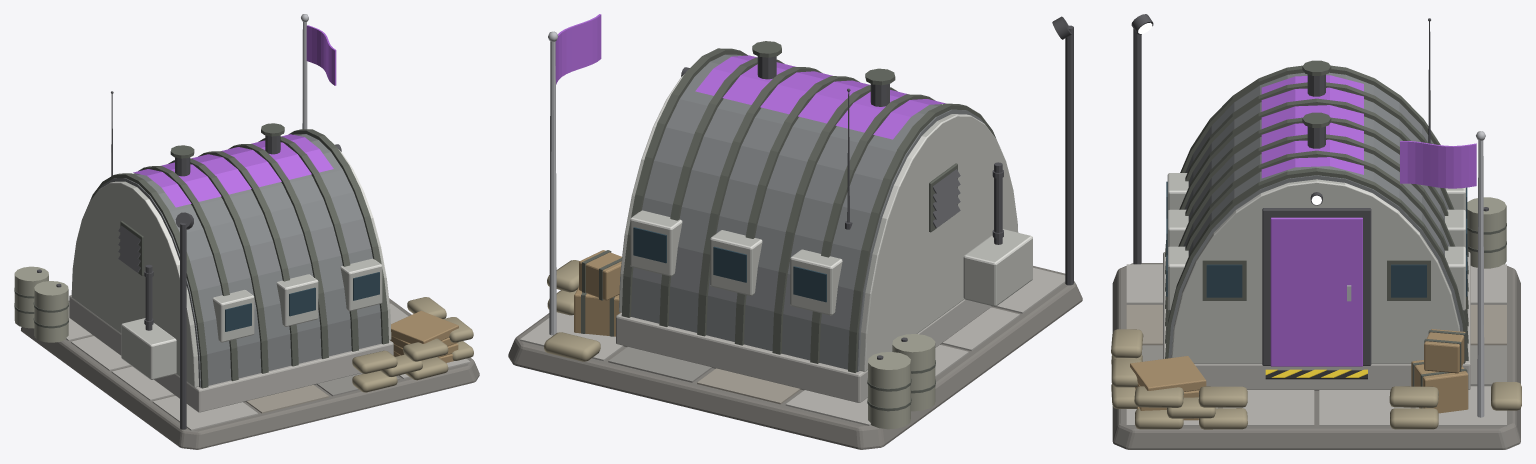
File: barracks_purple.glb
The picture shows the model from 3 angles, left to right: view 1: azimuth 30°, elevation 25°; view 2: azimuth 150°, elevation 25°; view 3: azimuth 270°, elevation 25°; orthographic projection. The views are drawn at different scales.
Parts seen in each view (by area): view 1: Body; view 2: Body; view 3: Body.
Boxes of the visible parts, x1,y1,x2,y2 form: Body: [14, 14, 479, 449]; Body: [508, 14, 1082, 449]; Body: [1111, 14, 1521, 449].
Size of the model in its own units: 4.14 by 3.28 by 4.01.
1 material, 1 textured.
